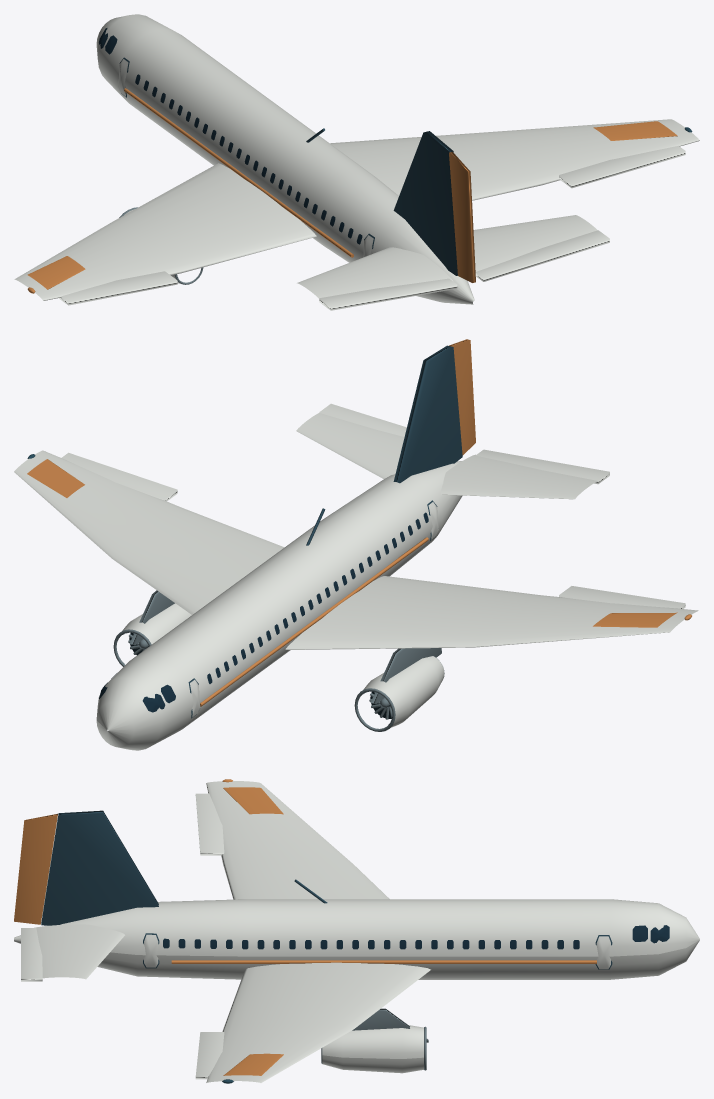
File: player-stratoliner-hero-v1.glb
3 views of the same model, one above another, from view 1: azimuth 30°, elevation 25°; view 2: azimuth 150°, elevation 25°; view 3: azimuth 270°, elevation 25° (orthographic). The views are drawn at different scales.
Parts seen in each view (by area): view 1: hull, trim, accent, rudder, elevator-right, aileron-right, elevator-left, aileron-left, cabin; view 2: hull, trim, accent, metal, rudder, cabin, aileron-right, elevator-left, aileron-left, elevator-right; view 3: hull, trim, accent, rudder, cabin, aileron-left, elevator-right, aileron-right, metal.
Boxes of the visible parts, x1,y1,x2,y2 form: hull: (14,14,699,304); trim: (119,57,457,275); accent: (27,88,677,293); rudder: (449,151,475,282); elevator-right: (475,230,609,281); aileron-right: (559,145,685,188); elevator-left: (319,278,457,310); aileron-left: (58,271,177,305); cabin: (99,28,362,244); hull: (14,413,698,750); trim: (188,345,462,718); accent: (27,459,691,706); metal: (113,590,444,731); rudder: (449,339,475,455); cabin: (99,512,428,712); aileron-right: (61,452,177,501); elevator-left: (476,449,609,484); aileron-left: (559,586,685,608); elevator-right: (319,403,406,436); hull: (14,781,699,1082); trim: (41,810,612,969); accent: (171,779,596,1075); rudder: (14,813,57,924); cabin: (163,925,669,949); aileron-left: (195,793,224,855); elevator-right: (21,928,42,981); aileron-right: (195,1032,224,1079); metal: (321,1008,428,1070).
Size of the model in its own units: 59.46 by 18.7 by 57.
